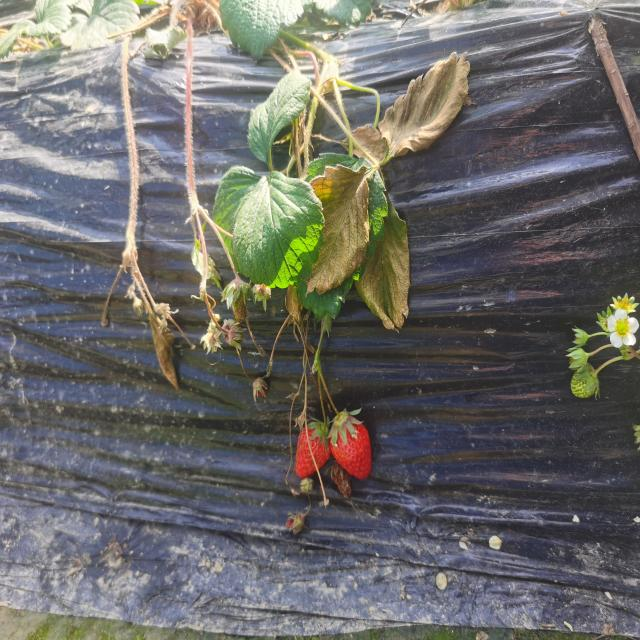stem: (326, 390, 342, 419), (320, 399, 326, 432)
strawberry: (329, 412, 372, 480), (308, 421, 331, 469), (296, 427, 316, 478)
